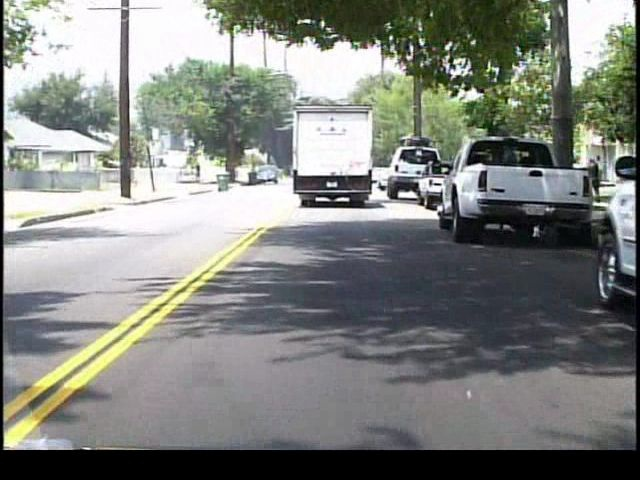person: (584, 156, 597, 200), (593, 155, 604, 203), (195, 162, 204, 185)
